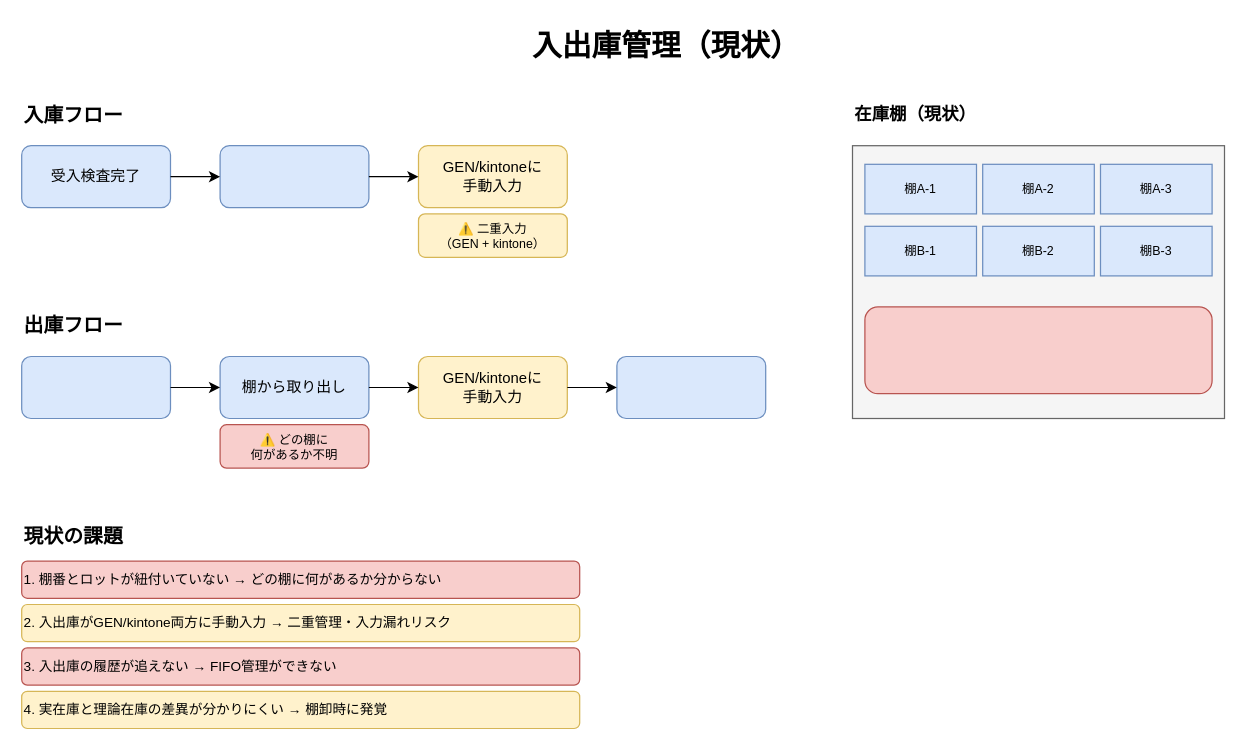
Some shapes in this 1246 by 750 pixel diagram are drawn without their labels. The centre of each missing label's shape, as x and y in pixels:
"❌ 何がどこにあるか分からない ❌ 入出庫履歴が追えない ❌ 先入れ先出しが管理できない" goes at (x=1038, y=350).
"出庫指示" goes at (x=95, y=386).
"棚に格納" goes at (x=294, y=176).
"製造各社へ出荷" goes at (x=691, y=386).
